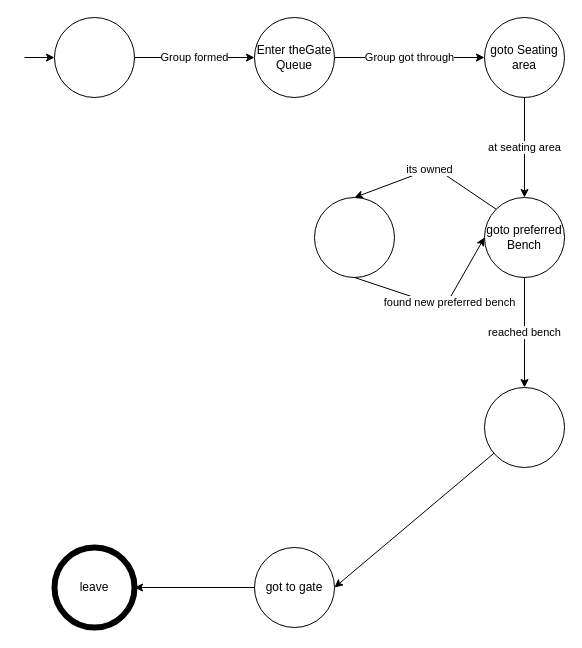
This 582x648 diagram has some shape labels left out. Each missing label, with the box of its shape:
Init: (54, 16, 134, 98)
search new bench: (314, 196, 394, 278)
sit and watch: (484, 386, 564, 468)
